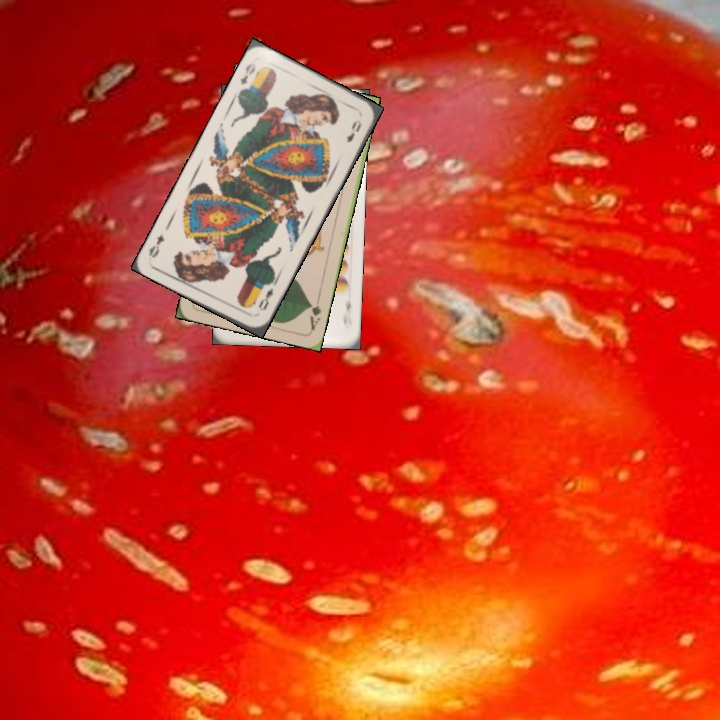E9: (340, 292, 354, 331)
EO: (254, 284, 276, 314), (236, 59, 258, 87)
GA: (305, 292, 324, 333)
